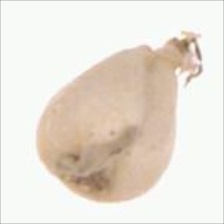L3: (141, 32, 202, 88)
L4: (36, 32, 202, 203)
